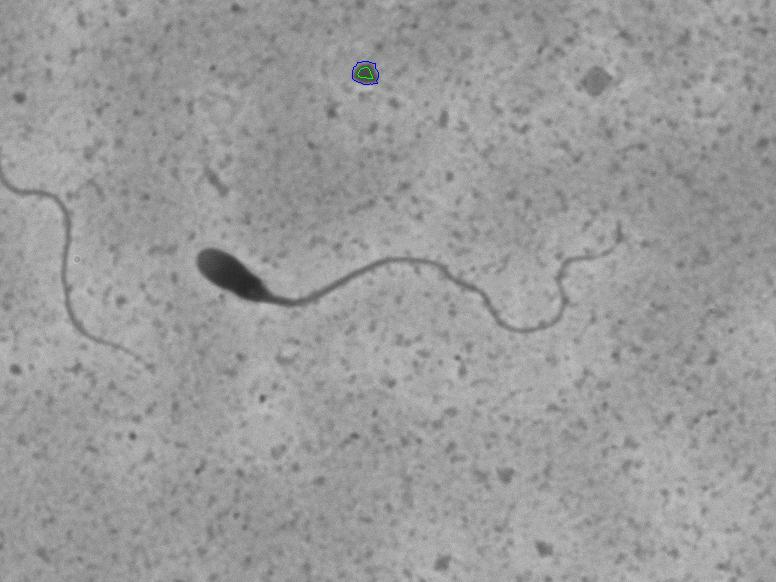Abnormal: (168, 161, 701, 391)
